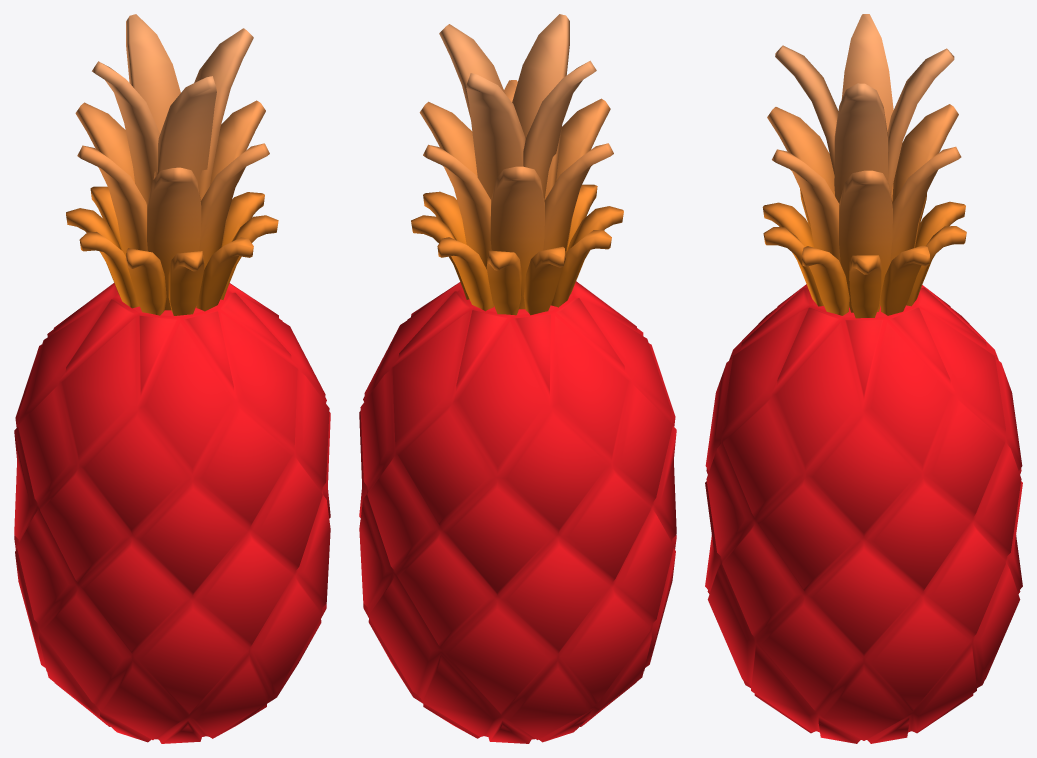
Rendered from Pineapple.fbx.
3 renders of one model, left to right at view 1: azimuth 30°, elevation 25°; view 2: azimuth 150°, elevation 25°; view 3: azimuth 270°, elevation 25°, orthographic.
Visible parts, largest first — view 1: Pineapple; view 2: Pineapple; view 3: Pineapple.
Part boxes in pixels (bbox=[...]): Pineapple: bbox=[14, 14, 330, 743]; Pineapple: bbox=[359, 14, 676, 743]; Pineapple: bbox=[705, 14, 1022, 743].
Bounding box in the file's own units: 110 × 254 × 110.
